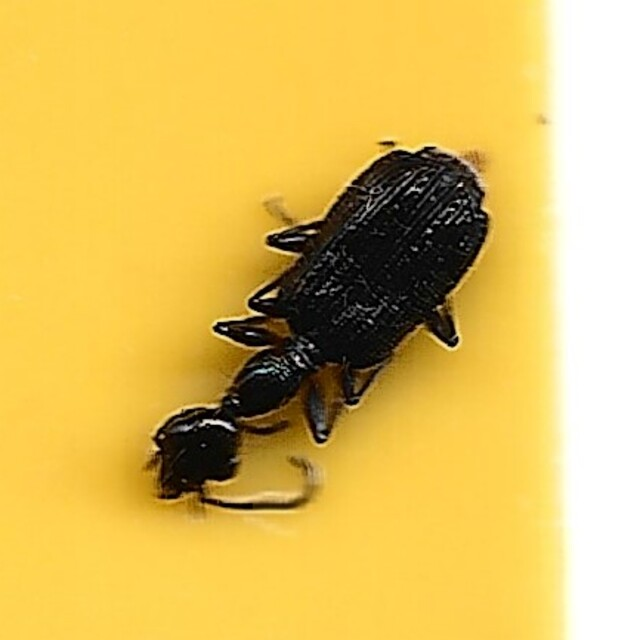Coleoptera: (148, 143, 492, 497)
